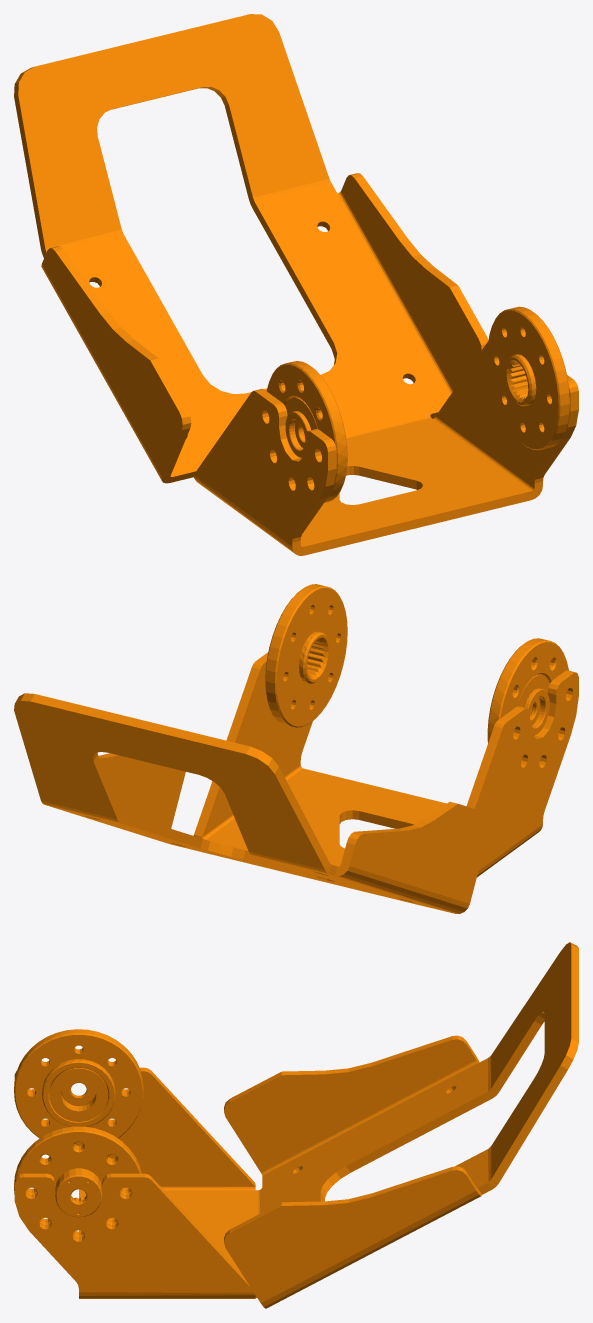
Rendered from rarm_gripper_roll_link.dae.
3 renders of one model, top to bottom at view 1: azimuth 30°, elevation 25°; view 2: azimuth 150°, elevation 25°; view 3: azimuth 270°, elevation 25°, orthographic. The views are drawn at different scales.
Visible parts, largest first — view 1: skpb5a0 (×5); view 2: skpb5a0 (×7); view 3: skpb5a0 (×7).
Part boxes in pixels (x1,y1,x2,y2): skpb5a0 (×5): [14, 14, 578, 555]; skpb5a0 (×7): [14, 584, 578, 913]; skpb5a0 (×7): [14, 942, 578, 1308].
Bounding box in the file's own units: 2.13 × 3.77 × 1.89.
